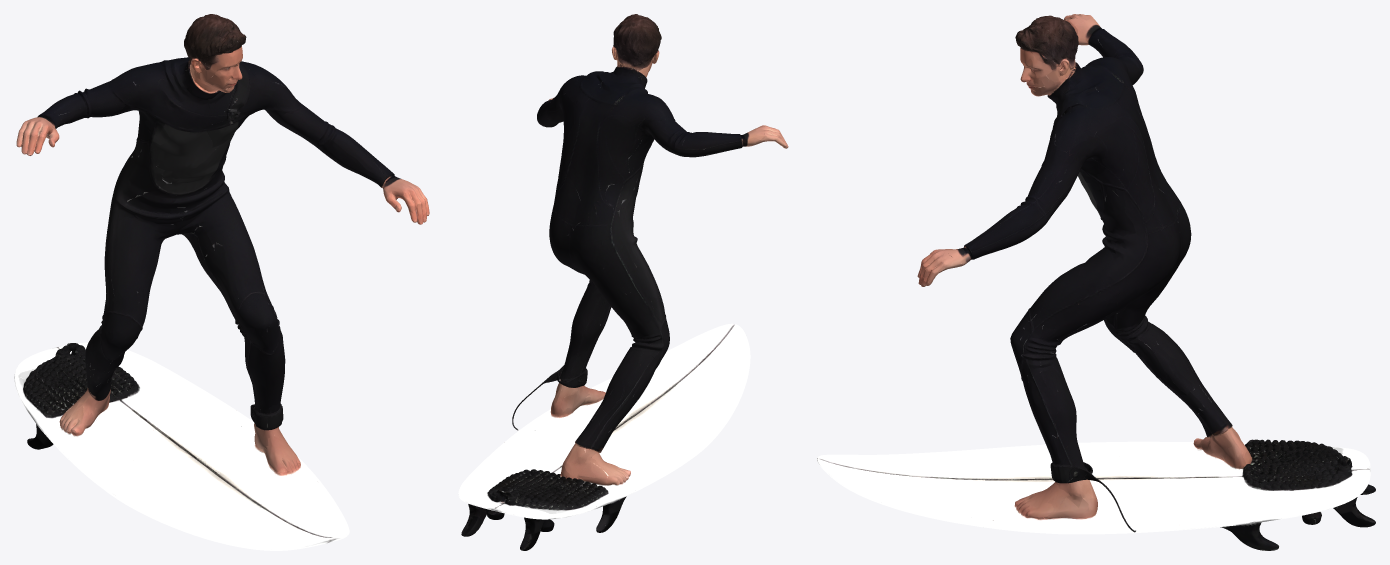
File: surfer.glb
3 views of the same model, side by side, from view 1: azimuth 30°, elevation 25°; view 2: azimuth 150°, elevation 25°; view 3: azimuth 270°, elevation 25° (orthographic). The views are drawn at different scales.
Parts seen in each view (by area): view 1: Mesh_0; view 2: Mesh_0; view 3: Mesh_0.
Part boxes in pixels (<box>): Mesh_0: <box>14,14,429,550</box>; Mesh_0: <box>458,14,788,550</box>; Mesh_0: <box>817,14,1375,550</box>.
Size of the model in its own units: 1.34 by 1.85 by 1.9.
1 material, 1 textured.
